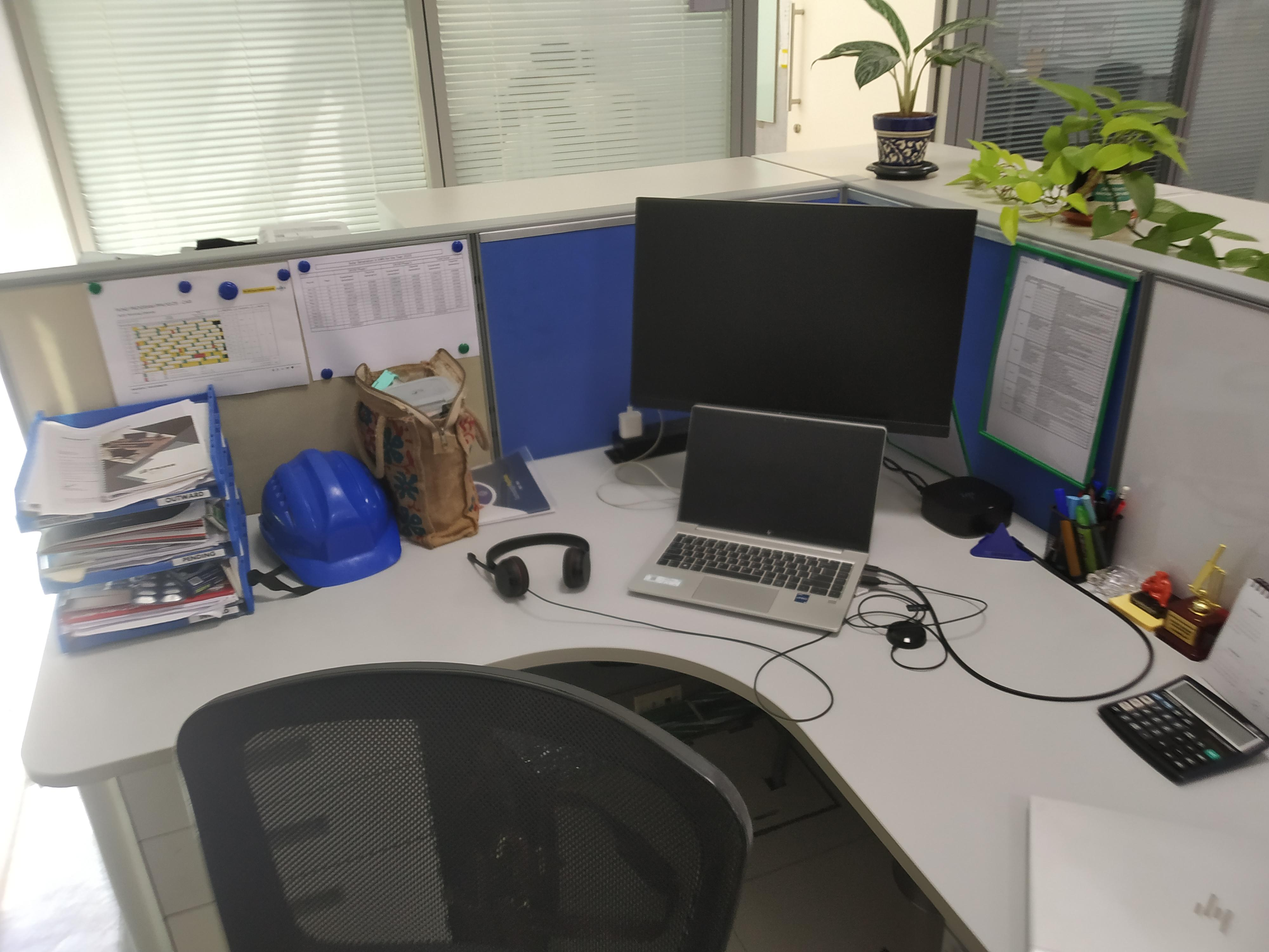laptop: (633, 402, 892, 638)
